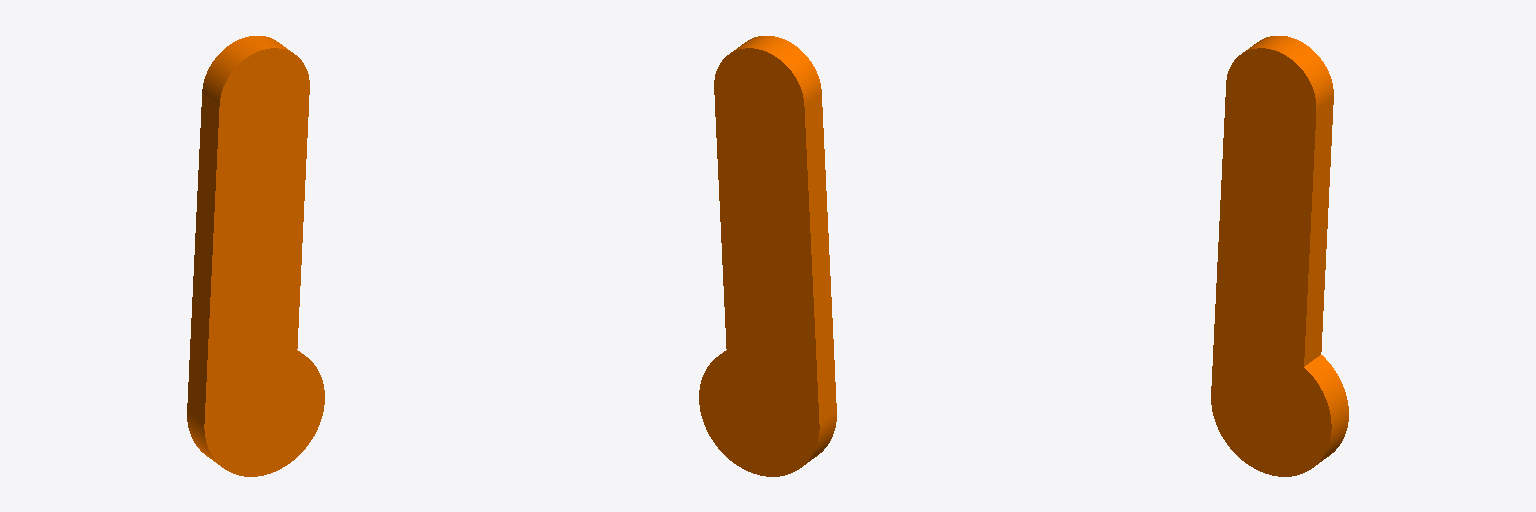
The model's file is Shoulder.obj.
3 views of the same model, side by side, from view 1: azimuth 30°, elevation 25°; view 2: azimuth 150°, elevation 25°; view 3: azimuth 330°, elevation 25° (orthographic).
Parts seen in each view (by area): view 1: Shoulder; view 2: Shoulder; view 3: Shoulder.
Boxes of the visible parts, x1=… form: Shoulder: x1=187, y1=36, x2=324, y2=476; Shoulder: x1=699, y1=36, x2=836, y2=476; Shoulder: x1=1211, y1=36, x2=1348, y2=476.
Size of the model in its own units: 0.4 by 1.35 by 0.1.